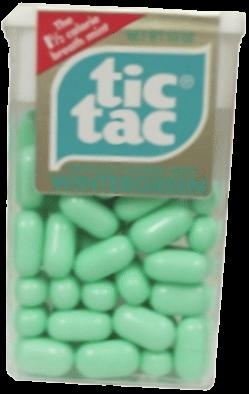grozi_21: (0, 0, 246, 391)
